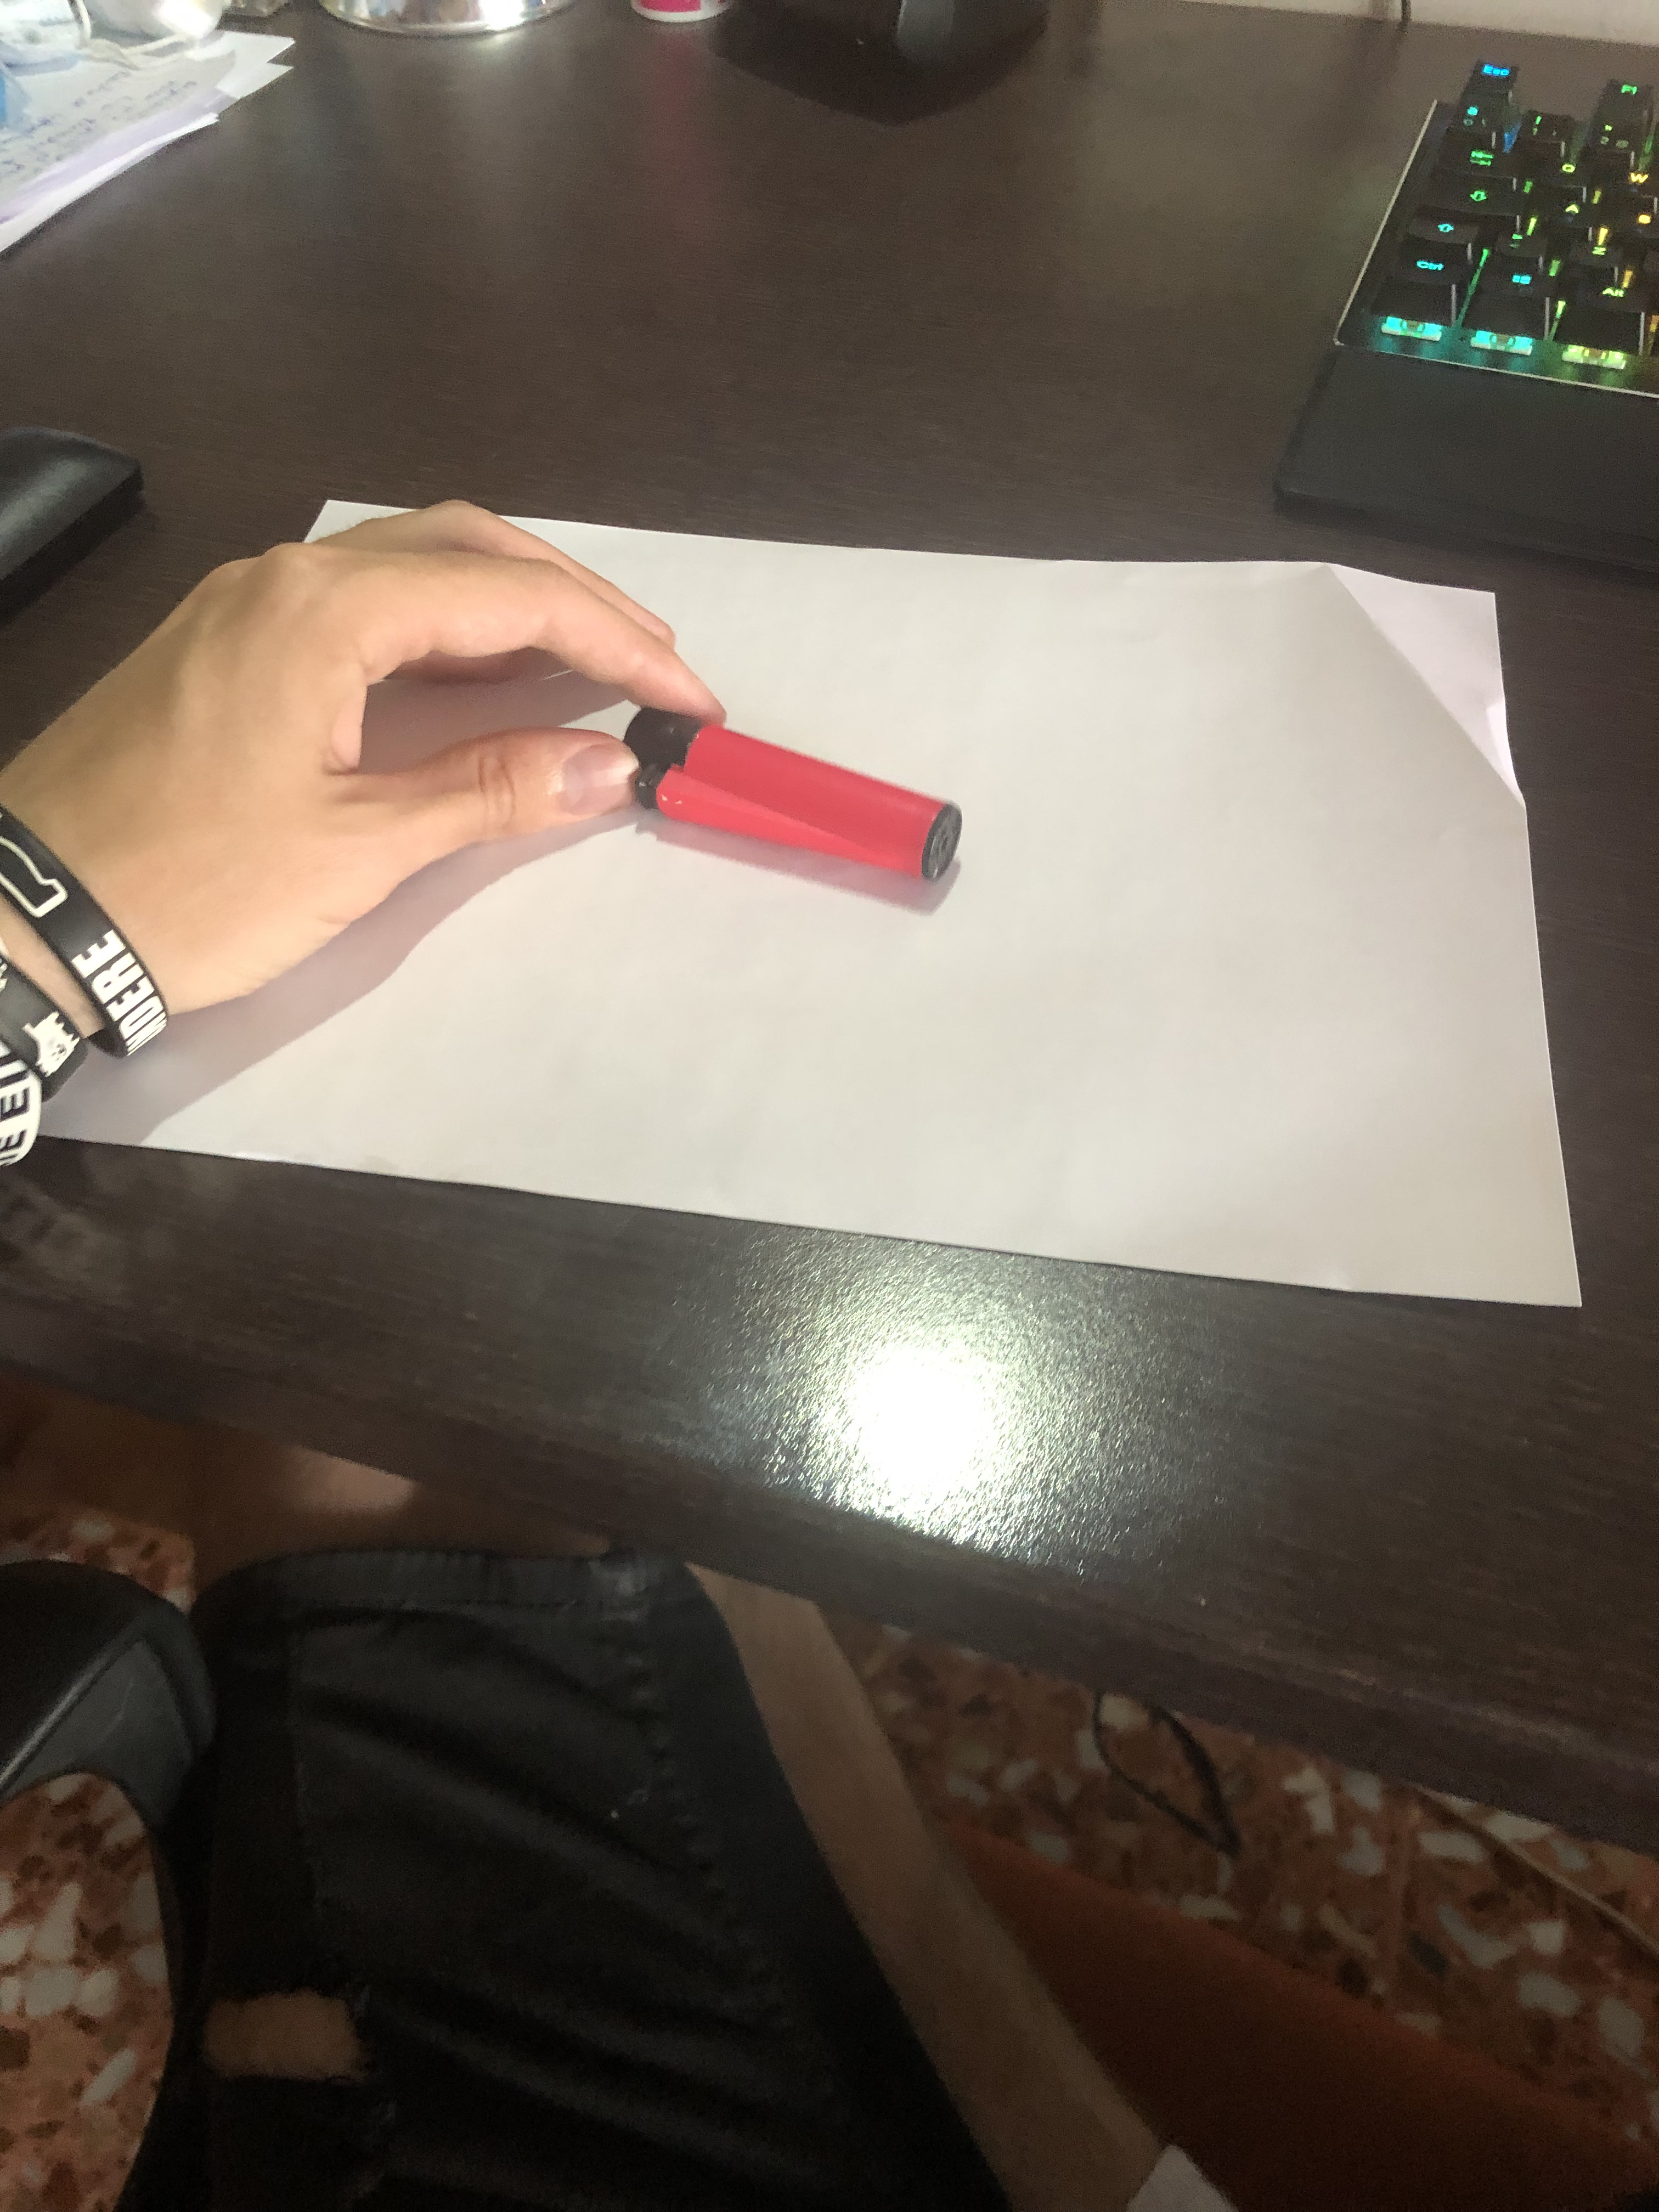Mechero: (608, 685, 957, 930)
